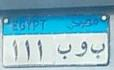1: (35, 38, 45, 62), (23, 39, 33, 61), (12, 38, 20, 61)
baa: (90, 42, 106, 60), (57, 42, 72, 61)
waw: (74, 40, 88, 59)
